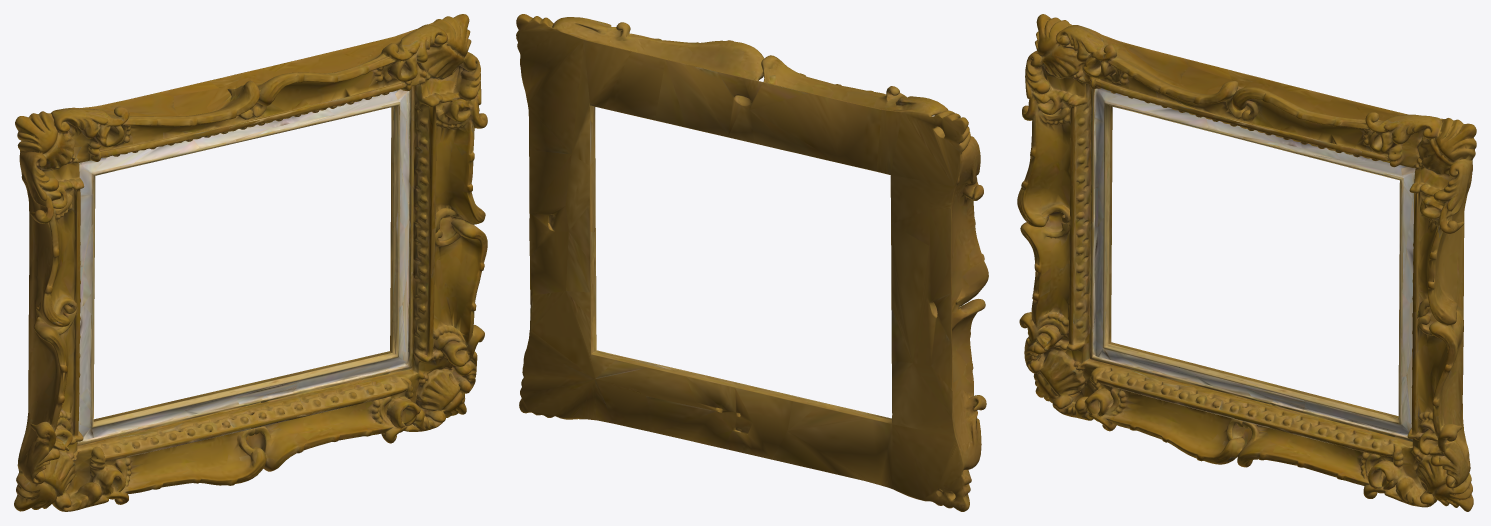
File: gold-frame.glb
The picture shows the model from 3 angles, left to right: view 1: azimuth 30°, elevation 25°; view 2: azimuth 150°, elevation 25°; view 3: azimuth 330°, elevation 25°; orthographic projection. The views are drawn at different scales.
Visible parts, largest first — view 1: Mesh_0; view 2: Mesh_0; view 3: Mesh_0.
Part boxes in pixels (x1=…): Mesh_0: x1=14, y1=14, x2=487, y2=511; Mesh_0: x1=516, y1=14, x2=988, y2=511; Mesh_0: x1=1017, y1=14, x2=1476, y2=511.
Size of the model in its own units: 1.71 by 1.46 by 0.1964.
Materials: 1 (1 with a texture image).
